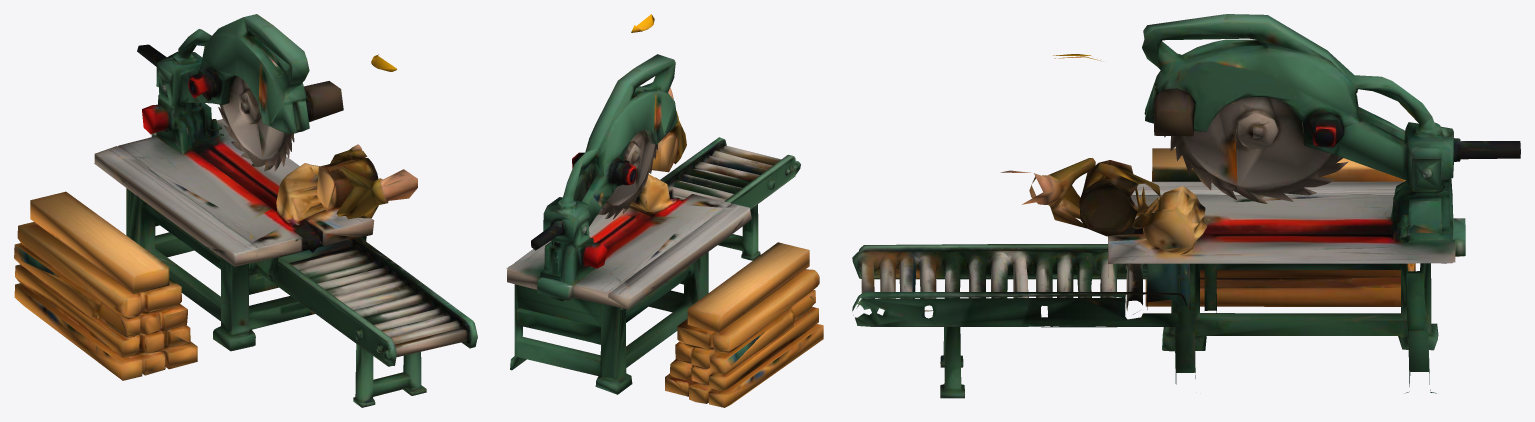
The model's file is table_saw_github.glb.
3 views of the same model, side by side, from view 1: azimuth 30°, elevation 25°; view 2: azimuth 150°, elevation 25°; view 3: azimuth 270°, elevation 25° (orthographic). The views are drawn at different scales.
Visible parts, largest first — view 1: table_saw_github; view 2: table_saw_github; view 3: table_saw_github.
Boxes of the visible parts, x1,y1,x2,y2 form: table_saw_github: [14, 14, 477, 407]; table_saw_github: [506, 14, 823, 407]; table_saw_github: [852, 14, 1520, 398].
Bounding box in the file's own units: 0.5113 × 0.602 × 1.03.
1 material, 1 textured.
